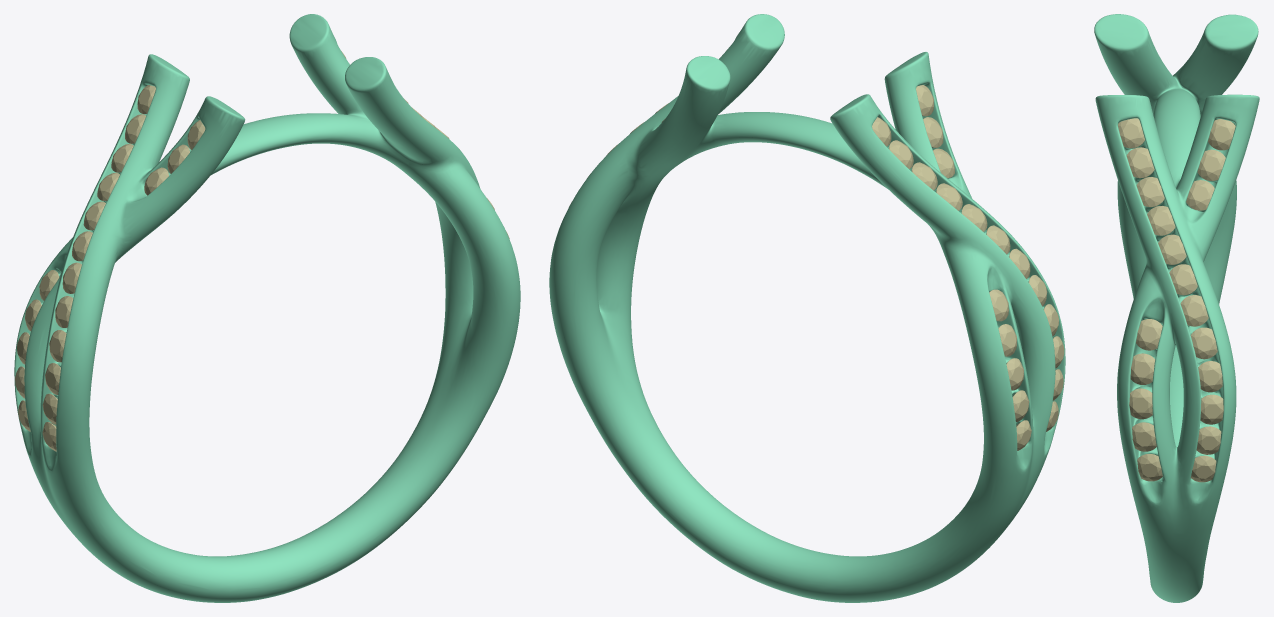
3 views of the same model, side by side, from view 1: azimuth 30°, elevation 25°; view 2: azimuth 150°, elevation 25°; view 3: azimuth 270°, elevation 25° (orthographic). The views are drawn at different scales.
Visible parts, largest first — view 1: Metal02; view 2: Metal02; view 3: Metal02, Diamond_Gem.011, Diamond_Gem.012, Diamond_Gem, Diamond_Gem.013, Diamond_Gem.017, Diamond_Gem.018, Diamond_Gem.010, Diamond_Gem.014, Diamond_Gem.001, Diamond_Gem.005, Diamond_Gem.019 (+9 smaller).
Part boxes in pixels (x1,y1,x2,y2): Metal02: (14,14,520,602); Metal02: (549,14,1065,602); Metal02: (1094,14,1259,602); Diamond_Gem.011: (1190,327,1217,359); Diamond_Gem.012: (1136,319,1162,350); Diamond_Gem: (1180,295,1208,326); Diamond_Gem.013: (1130,353,1155,384); Diamond_Gem.017: (1208,119,1235,150); Diamond_Gem.018: (1197,149,1225,180); Diamond_Gem.010: (1198,361,1222,392); Diamond_Gem.014: (1129,388,1152,419); Diamond_Gem.001: (1169,264,1197,295); Diamond_Gem.005: (1126,147,1154,178); Diamond_Gem.019: (1186,180,1214,210).
Size of the model in its own units: 21.09 by 22.78 by 6.52.
